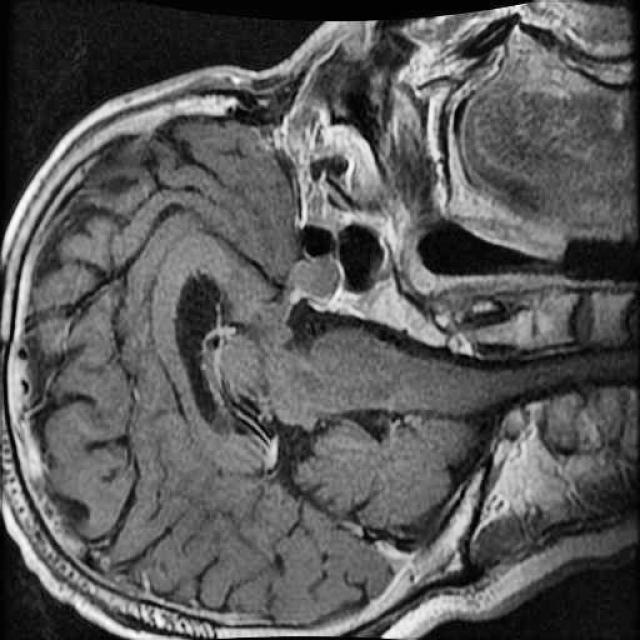Tumor: (278, 243, 355, 316)
